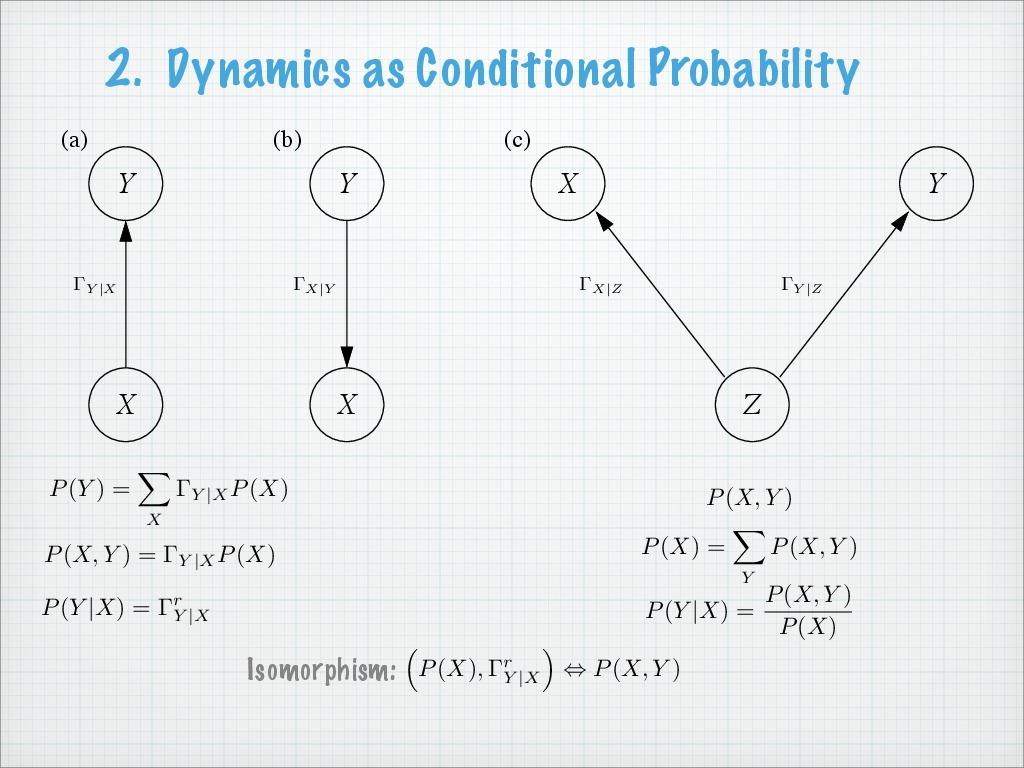paragraph: (21, 461, 1019, 732)
title: (149, 30, 883, 112)
